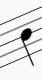note: (15, 7, 39, 70)
